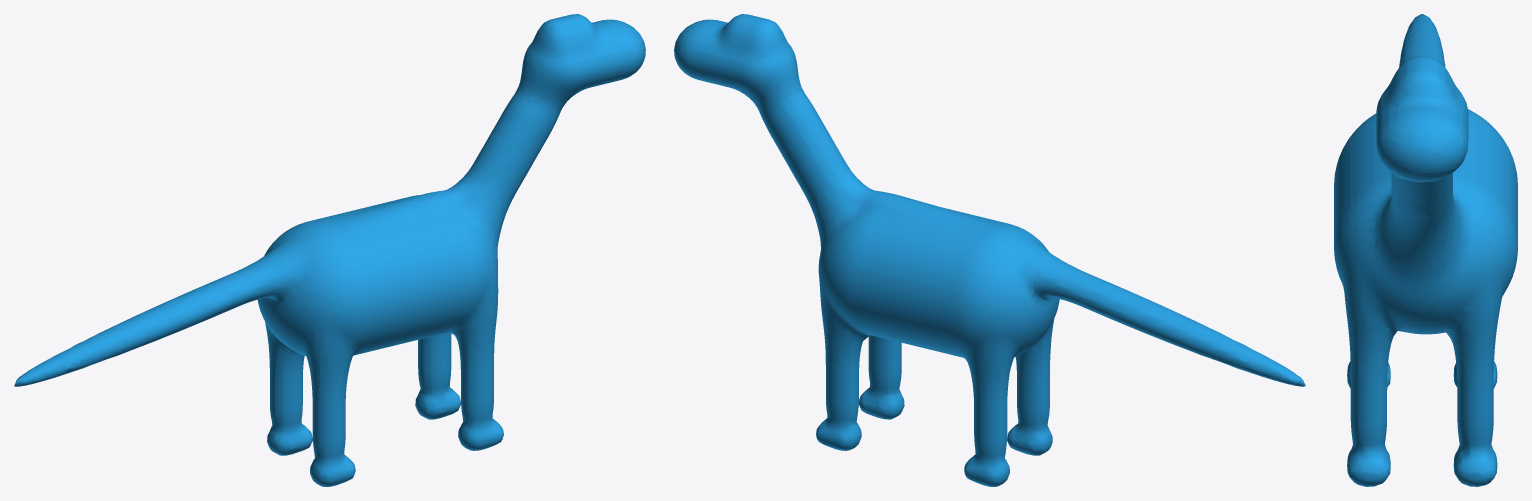
The model's file is larence.fbx.
3 views of the same model, side by side, from view 1: azimuth 30°, elevation 25°; view 2: azimuth 150°, elevation 25°; view 3: azimuth 270°, elevation 25° (orthographic). The views are drawn at different scales.
Visible parts, largest first — view 1: Mball; view 2: Mball; view 3: Mball.
Boxes of the visible parts, x1=… form: Mball: x1=14, y1=14, x2=645, y2=486; Mball: x1=674, y1=14, x2=1305, y2=486; Mball: x1=1334, y1=14, x2=1517, y2=486.
Bounding box in the file's own units: 1691 × 1001 × 345.
